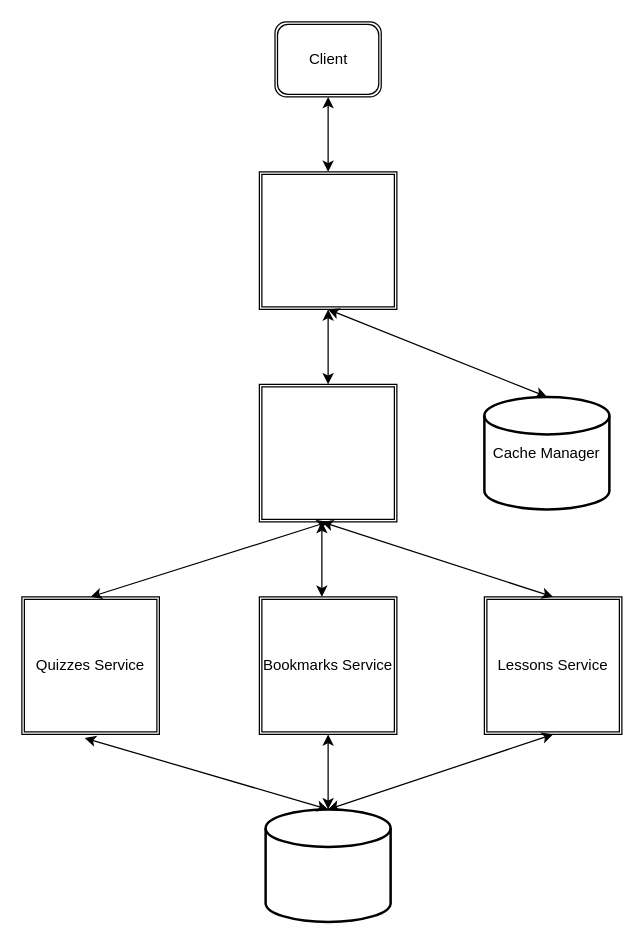
The diagram is 644 pixels wide and 945 high, and some of its shapes have lost their labels. Each missing label, with the centre of its shape:
DB: the point at 327,865
Reports Controller: the point at 327,240
Reports Service: the point at 327,452
